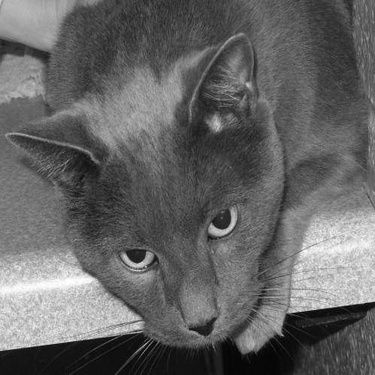cat: (4, 3, 373, 355)
